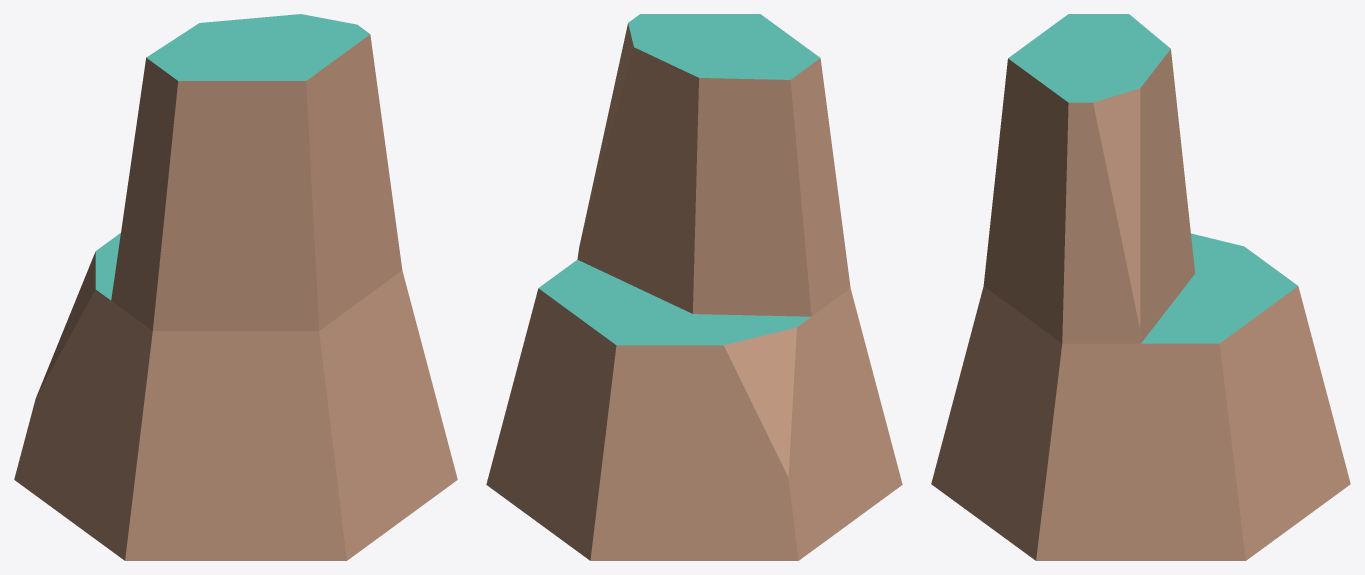
Rendered from rock_tallF.glb.
The picture shows the model from 3 angles, left to right: view 1: azimuth 30°, elevation 25°; view 2: azimuth 150°, elevation 25°; view 3: azimuth 270°, elevation 25°; orthographic projection. The views are drawn at different scales.
Visible parts, largest first — view 1: rock_tallF; view 2: rock_tallF; view 3: rock_tallF.
Part boxes in pixels (x1,y1,x2,y2): rock_tallF: (14,14,457,560); rock_tallF: (486,14,902,560); rock_tallF: (931,14,1350,560).
Bounding box in the file's own units: 0.4437 × 0.5737 × 0.5123.
